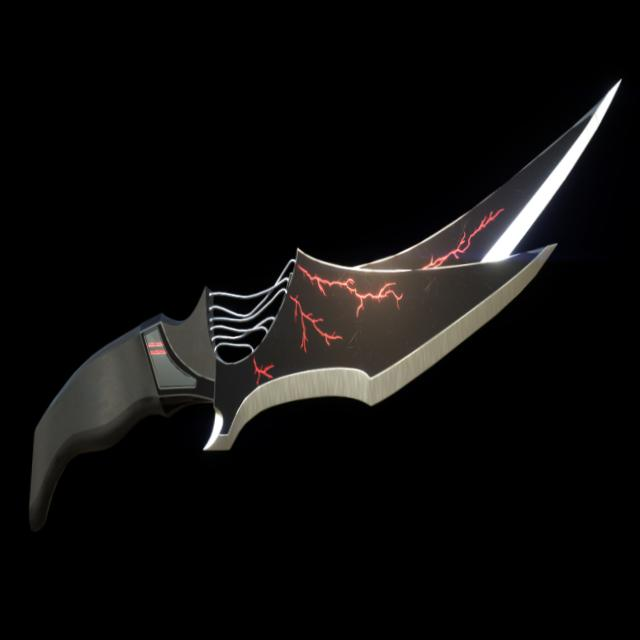Gun: (22, 49, 632, 572)
